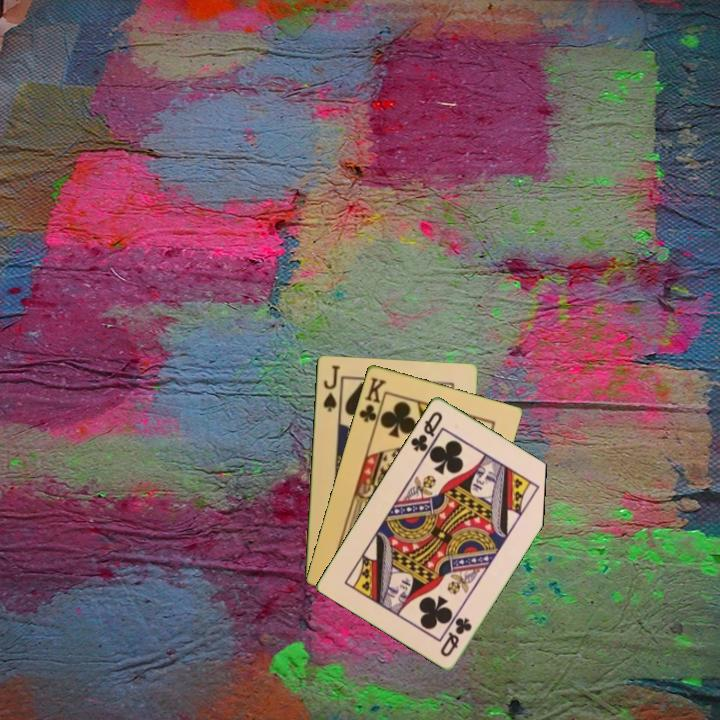Js: (320, 361, 342, 414)
Kc: (355, 373, 389, 429)
Qc: (436, 613, 475, 659), (407, 407, 445, 454)
